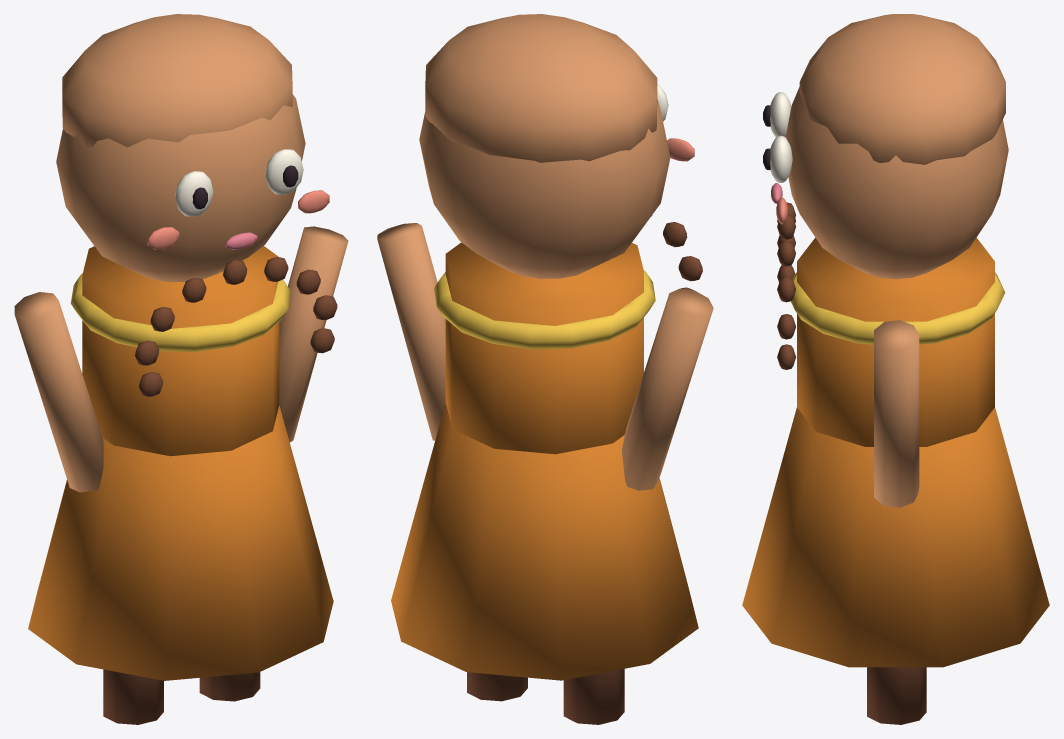
File: luang-pu-thuad.glb
3 renders of one model, left to right at view 1: azimuth 30°, elevation 25°; view 2: azimuth 150°, elevation 25°; view 3: azimuth 270°, elevation 25°, orthographic. The views are drawn at different scales.
Parts seen in each view (by area): view 1: luang_pu_thuad_robe, luang_pu_thuad_torso, luang_pu_thuad_head, luang_pu_thuad_scalp, luang_pu_thuad_arm_-1, luang_pu_thuad_arm_1, luang_pu_thuad_belt, luang_pu_thuad_leg_-1, luang_pu_thuad_leg_1, luang_pu_thuad_eye_white_1, luang_pu_thuad_eye_white_-1, luang_pu_thuad_cheek_-1 (+1 smaller); view 2: luang_pu_thuad_robe, luang_pu_thuad_torso, luang_pu_thuad_scalp, luang_pu_thuad_head, luang_pu_thuad_arm_-1, luang_pu_thuad_arm_1, luang_pu_thuad_belt, luang_pu_thuad_leg_-1, luang_pu_thuad_leg_1; view 3: luang_pu_thuad_robe, luang_pu_thuad_torso, luang_pu_thuad_scalp, luang_pu_thuad_head, luang_pu_thuad_arm_1, luang_pu_thuad_belt, luang_pu_thuad_leg_1, luang_pu_thuad_eye_white_1, luang_pu_thuad_eye_white_-1.
Part boxes in pixels (left/top/right/bottom): luang_pu_thuad_robe: left=28, top=406, right=333, bottom=680; luang_pu_thuad_torso: left=82, top=246, right=279, bottom=456; luang_pu_thuad_head: left=56, top=94, right=305, bottom=281; luang_pu_thuad_scalp: left=62, top=14, right=292, bottom=147; luang_pu_thuad_arm_-1: left=14, top=292, right=103, bottom=492; luang_pu_thuad_arm_1: left=279, top=226, right=348, bottom=442; luang_pu_thuad_belt: left=70, top=273, right=290, bottom=351; luang_pu_thuad_leg_-1: left=103, top=669, right=163, bottom=724; luang_pu_thuad_leg_1: left=199, top=672, right=260, bottom=701; luang_pu_thuad_eye_white_1: left=265, top=149, right=303, bottom=194; luang_pu_thuad_eye_white_-1: left=175, top=171, right=213, bottom=216; luang_pu_thuad_cheek_-1: left=147, top=227, right=179, bottom=249; luang_pu_thuad_robe: left=391, top=403, right=698, bottom=680; luang_pu_thuad_torso: left=445, top=242, right=643, bottom=454; luang_pu_thuad_scalp: left=425, top=14, right=657, bottom=162; luang_pu_thuad_head: left=419, top=99, right=670, bottom=278; luang_pu_thuad_arm_-1: left=621, top=288, right=713, bottom=490; luang_pu_thuad_arm_1: left=377, top=223, right=445, bottom=440; luang_pu_thuad_belt: left=434, top=270, right=655, bottom=349; luang_pu_thuad_leg_-1: left=563, top=668, right=624, bottom=724; luang_pu_thuad_leg_1: left=467, top=672, right=527, bottom=701; luang_pu_thuad_robe: left=742, top=407, right=1049, bottom=667; luang_pu_thuad_torso: left=797, top=237, right=994, bottom=446; luang_pu_thuad_scalp: left=799, top=14, right=1005, bottom=164; luang_pu_thuad_head: left=785, top=87, right=1008, bottom=279; luang_pu_thuad_arm_1: left=874, top=320, right=919, bottom=507; luang_pu_thuad_belt: left=791, top=272, right=1005, bottom=344; luang_pu_thuad_leg_1: left=867, top=667, right=926, bottom=724; luang_pu_thuad_eye_white_1: left=770, top=135, right=792, bottom=182; luang_pu_thuad_eye_white_-1: left=770, top=92, right=791, bottom=137.
Size of the model in its own units: 1.09 by 2.13 by 0.9.
